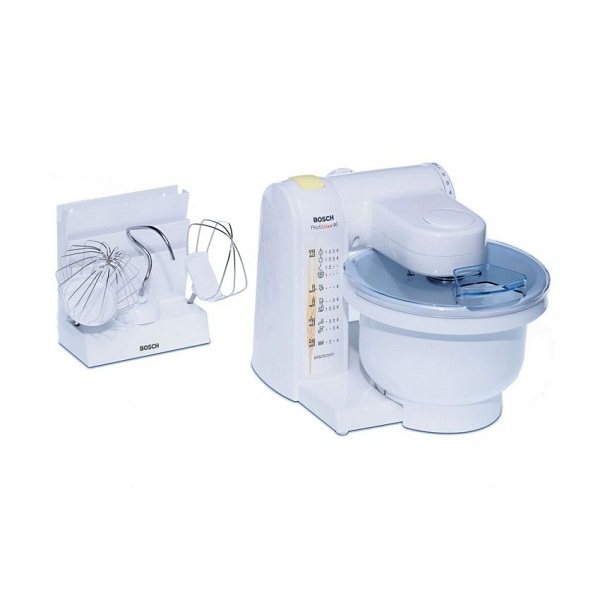Bosch: (305, 210, 338, 225), (136, 338, 167, 353)
